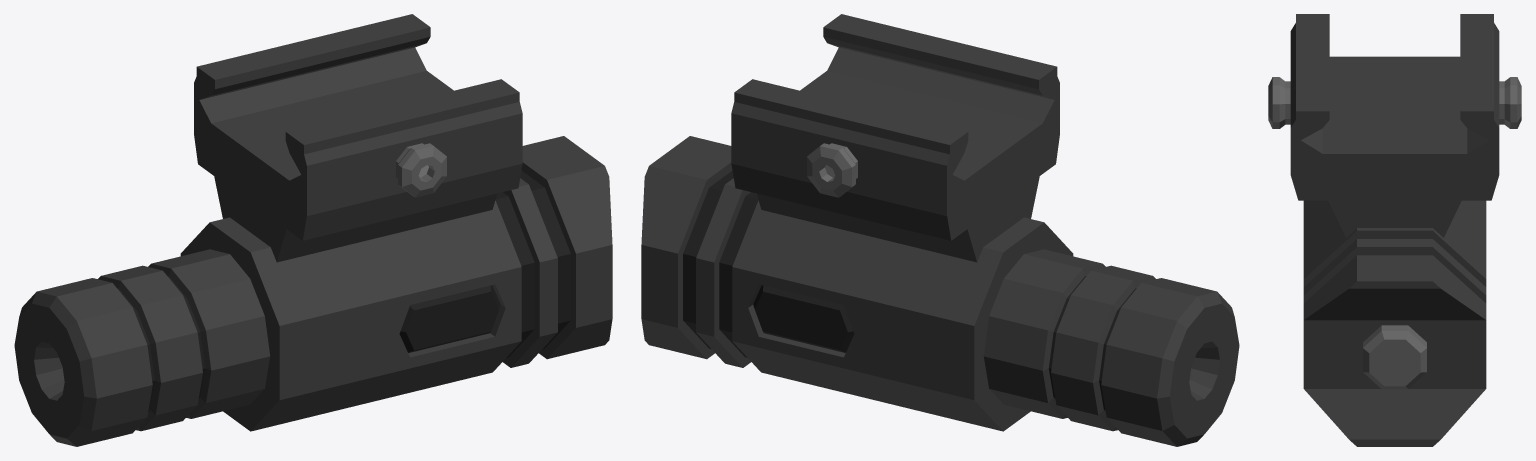
Rendered from Attachment_Laser_V1.glb.
3 renders of one model, left to right at view 1: azimuth 30°, elevation 25°; view 2: azimuth 150°, elevation 25°; view 3: azimuth 270°, elevation 25°, orthographic. The views are drawn at different scales.
Parts seen in each view (by area): view 1: Attachment_Laser_V1; view 2: Attachment_Laser_V1; view 3: Attachment_Laser_V1.
Part boxes in pixels (x1,y1,x2,y2): Attachment_Laser_V1: (14,14,612,446); Attachment_Laser_V1: (641,14,1239,446); Attachment_Laser_V1: (1268,14,1521,446).
Size of the model in its own units: 0.063 by 0.0344 by 0.028.
Materials: 1 (1 with a texture image).
